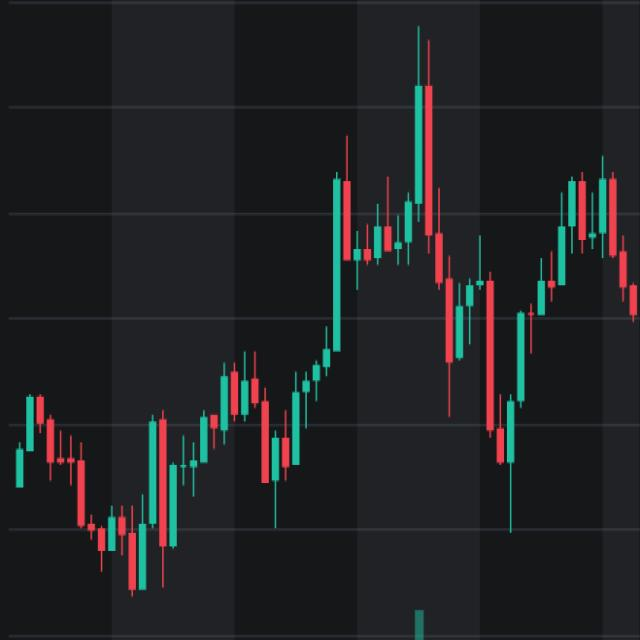Resistance-Emerging: (336, 66, 639, 464), (5, 356, 291, 602)
Resistance-breakout: (165, 138, 357, 513)
